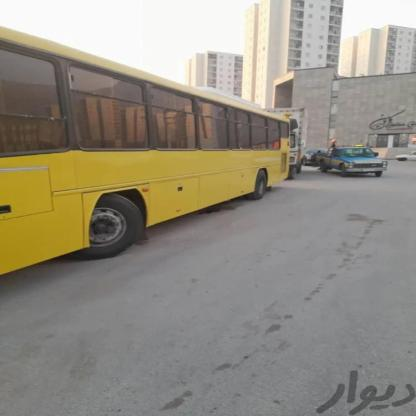Bus: (0, 27, 292, 275)
Car: (316, 137, 387, 180)
